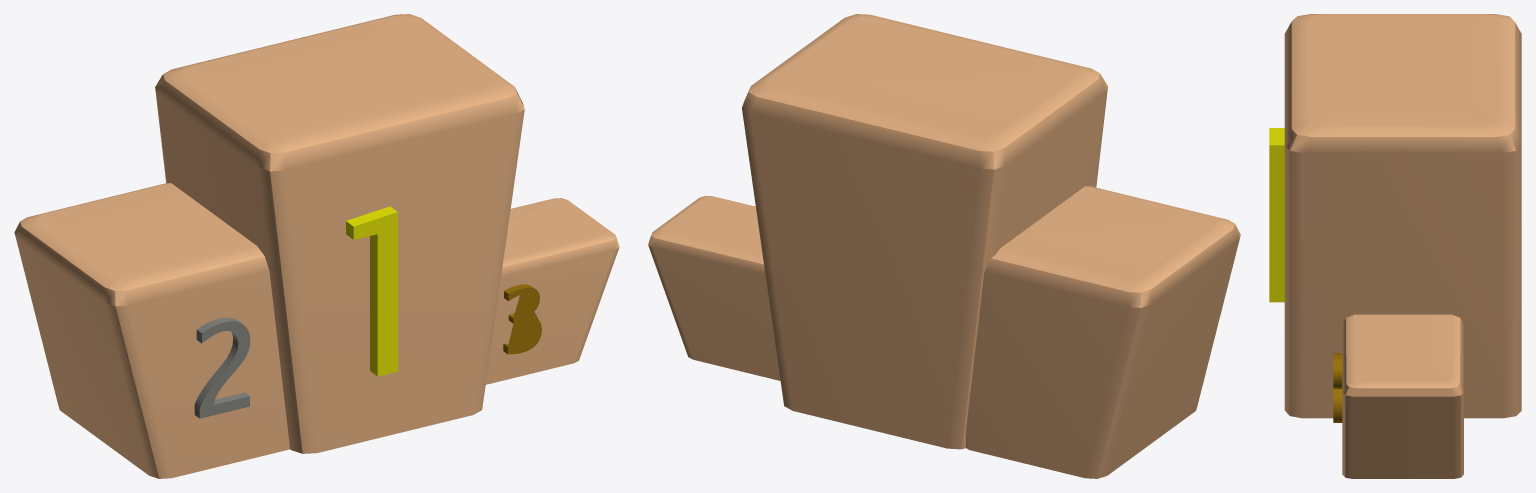
File: Podium.fbx
The picture shows the model from 3 angles, left to right: view 1: azimuth 30°, elevation 25°; view 2: azimuth 150°, elevation 25°; view 3: azimuth 270°, elevation 25°; orthographic projection.
Parts seen in each view (by area): view 1: Podium_msh; view 2: Podium_msh; view 3: Podium_msh.
Part boxes in pixels (x1,y1,x2,y2): Podium_msh: (14, 14, 619, 478); Podium_msh: (648, 14, 1240, 478); Podium_msh: (1269, 14, 1521, 478).
Size of the model in its own units: 9.27 by 5.24 by 3.9.
